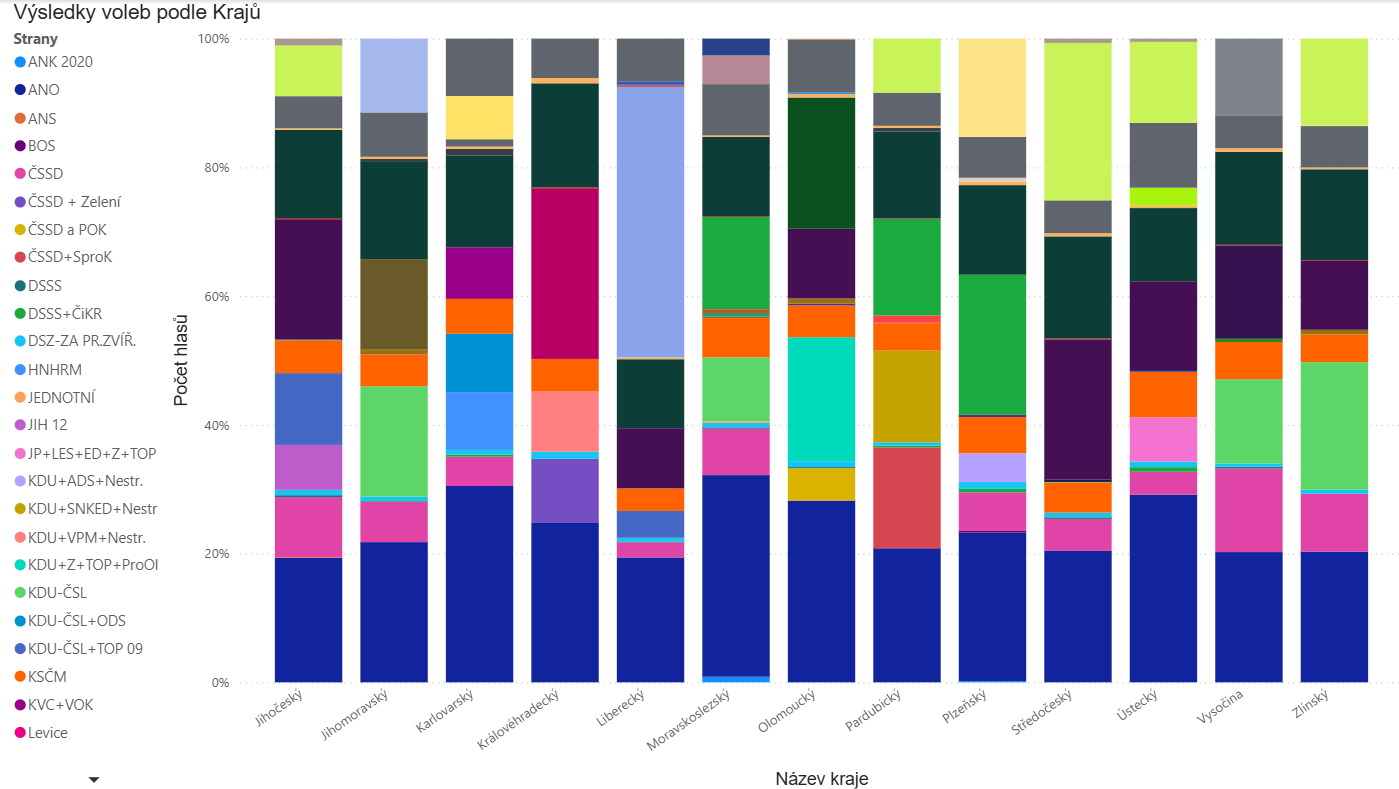

This screenshot's page, from the dashboard's own definition file:
{"tool":"powerbi","page":{"name":"Výsledky voleb podle Krajů","canvas":[1280,720],"ordinal":0},"visuals":[{"type":"hundredPercentStackedColumnChart","title":"Výsledky voleb podle Krajů","fields":{"Category":["geografie.Název kraje Hierarchy.Název kraje","geografie.Název kraje Hierarchy.Název okresu","geografie.Název kraje Hierarchy.Název ORP","geografie.Název kraje Hierarchy.Název obce"],"Series":["záznamy strany.Zkratka strany"],"Y":["výsledky volby + sčítání obyvatelstva.Sum of Počet hlasů total for Obec kód"]},"box":[9.7,0,1270.3,719.8],"z":0}]}

Visuals, with their boxes in screenshot pixels (x1, y1, x2, y2), scaled from the page's 1280x720 canvas onto the 1399x789 screenshot:
"Výsledky voleb podle Krajů" hundredPercentStackedColumnChart: <box>11,0,1398,788</box>
